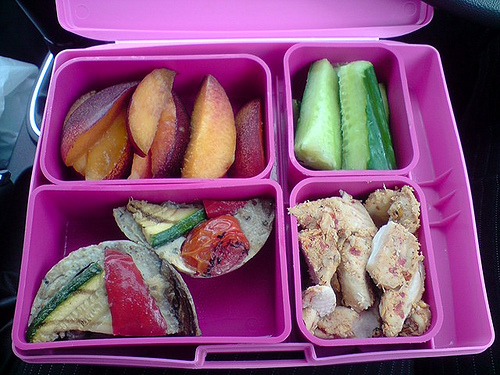cucumber: (336, 59, 398, 173), (295, 51, 342, 169)
